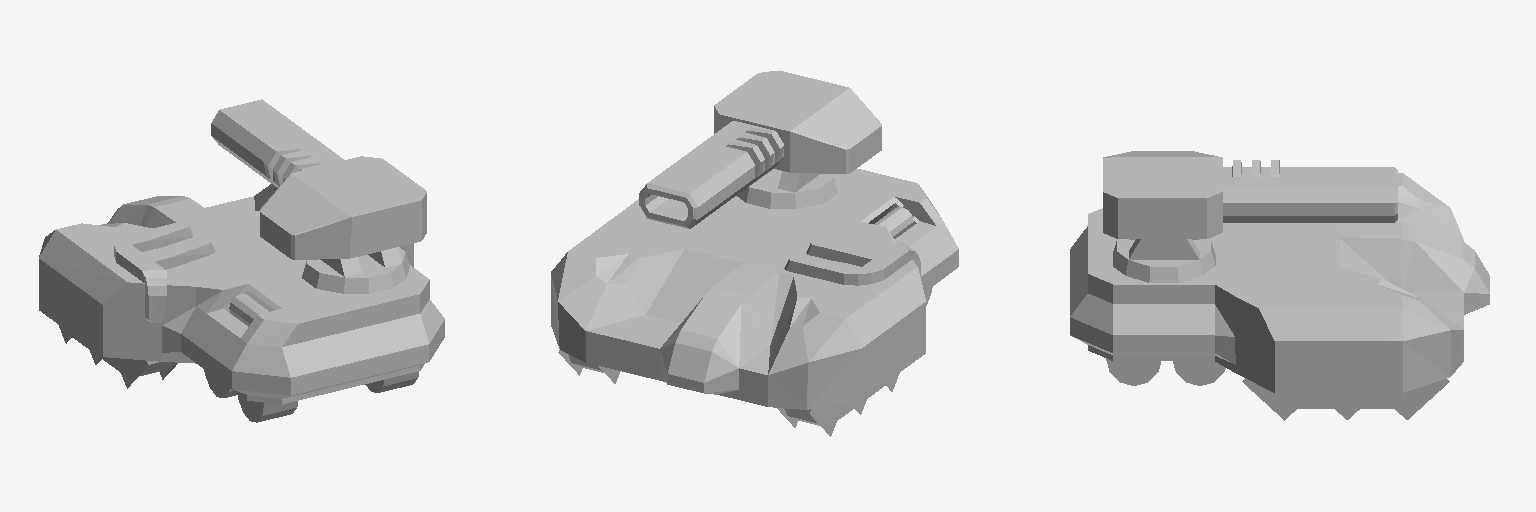
File: tank4.83- UV-named (final7).obj
3 renders of one model, left to right at view 1: azimuth 30°, elevation 25°; view 2: azimuth 150°, elevation 25°; view 3: azimuth 270°, elevation 25°, orthographic.
Visible parts, largest first — view 1: Base, Gun, turret, lwheel2, EnergyCell, rwheel2, ltrackw3; view 2: Base, Gun, turret, EnergyCell, ltrackw1; view 3: Base, Gun, turret, rtrackw1, rwheel2, rtrackw3, rwheel1, rtrackw2, rtrack.
Part boxes in pixels (left/top/right/bottom): Base: left=39, top=184, right=444, bottom=404; Gun: left=211, top=99, right=426, bottom=259; turret: left=302, top=247, right=409, bottom=293; lwheel2: left=237, top=394, right=297, bottom=422; EnergyCell: left=229, top=294, right=268, bottom=326; rwheel2: left=365, top=371, right=418, bottom=392; ltrackw3: left=115, top=358, right=148, bottom=388; Base: left=551, top=169, right=958, bottom=409; Gun: left=639, top=70, right=881, bottom=228; turret: left=736, top=169, right=837, bottom=208; EnergyCell: left=874, top=207, right=913, bottom=238; ltrackw1: left=810, top=404, right=843, bottom=436; Base: left=1070, top=173, right=1489, bottom=392; Gun: left=1103, top=151, right=1397, bottom=238; turret: left=1113, top=239, right=1215, bottom=282; rtrackw1: left=1377, top=379, right=1449, bottom=419; rwheel2: left=1106, top=358, right=1160, bottom=385; rtrackw3: left=1242, top=378, right=1314, bottom=420; rwheel1: left=1173, top=361, right=1225, bottom=385; rtrackw2: left=1317, top=393, right=1376, bottom=419; rtrack: left=1298, top=393, right=1393, bottom=408.
Bounding box in the file's own units: 29.48 × 18.8 × 34.47.